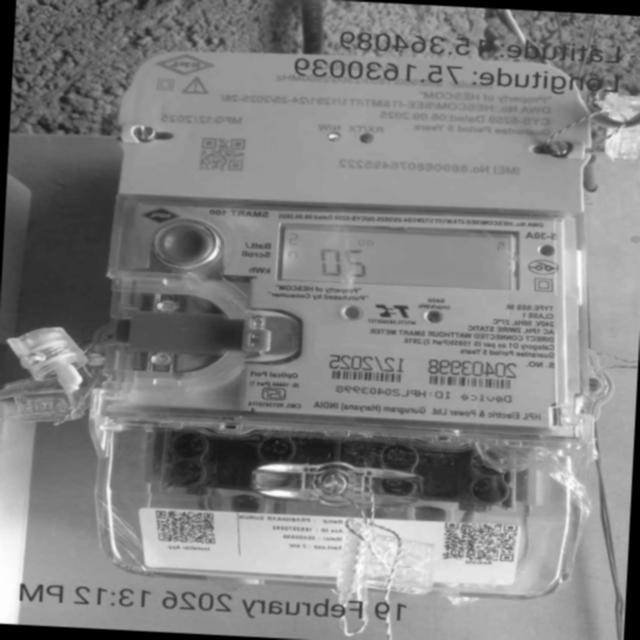meter: (102, 39, 600, 434)
